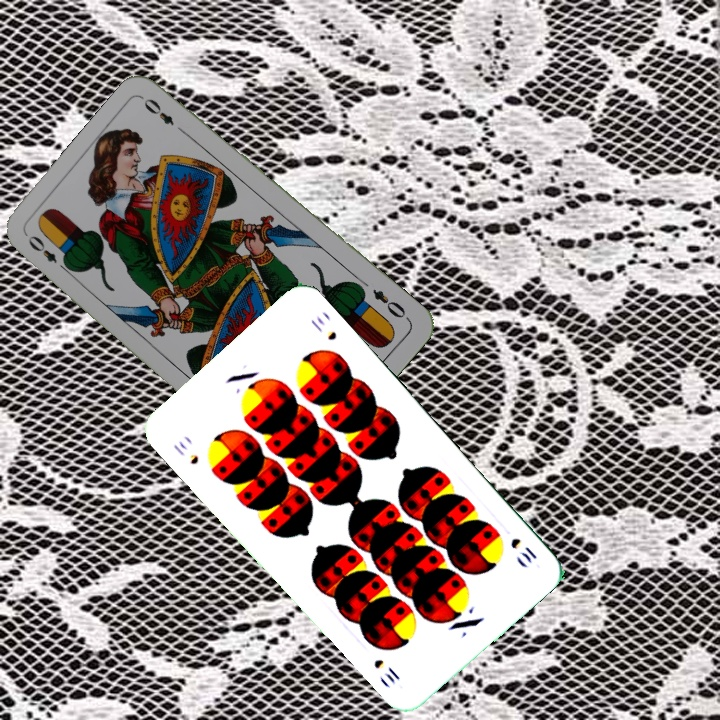EO: (23, 231, 73, 276), (368, 285, 412, 323)
S10: (506, 534, 539, 566), (169, 436, 202, 467)
